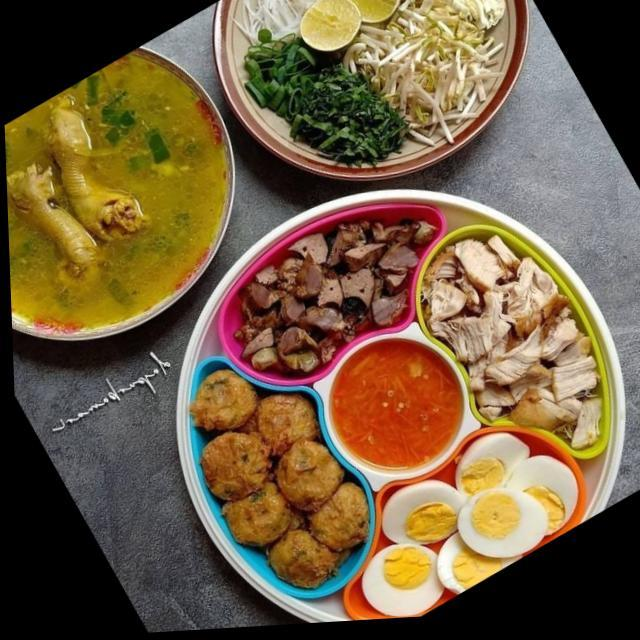Soto: (0, 87, 229, 344)
